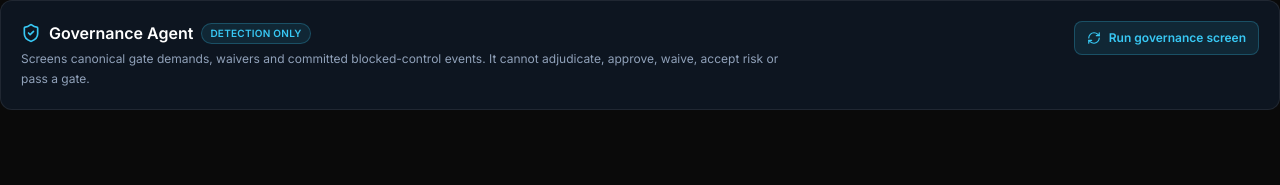
Test case: GovernanceAgentPanel › shows the administrator-only refusal without fabricating a result
The width and height of the screenshot is (1280, 185).
Step 1. Click the button "Run governance screen" → click(1166, 38), box [1074,21,1259,55]
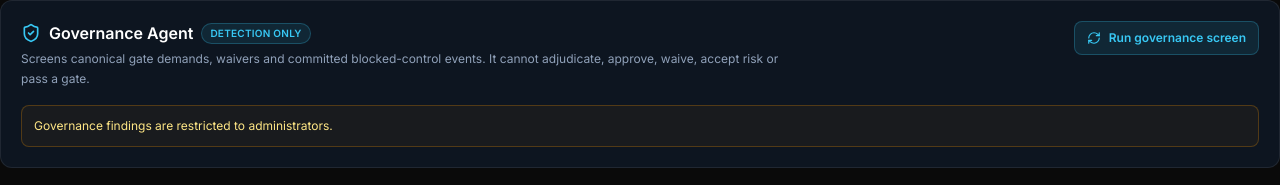
Now the message shows "restricted to administrators", box [34,118,333,133]
